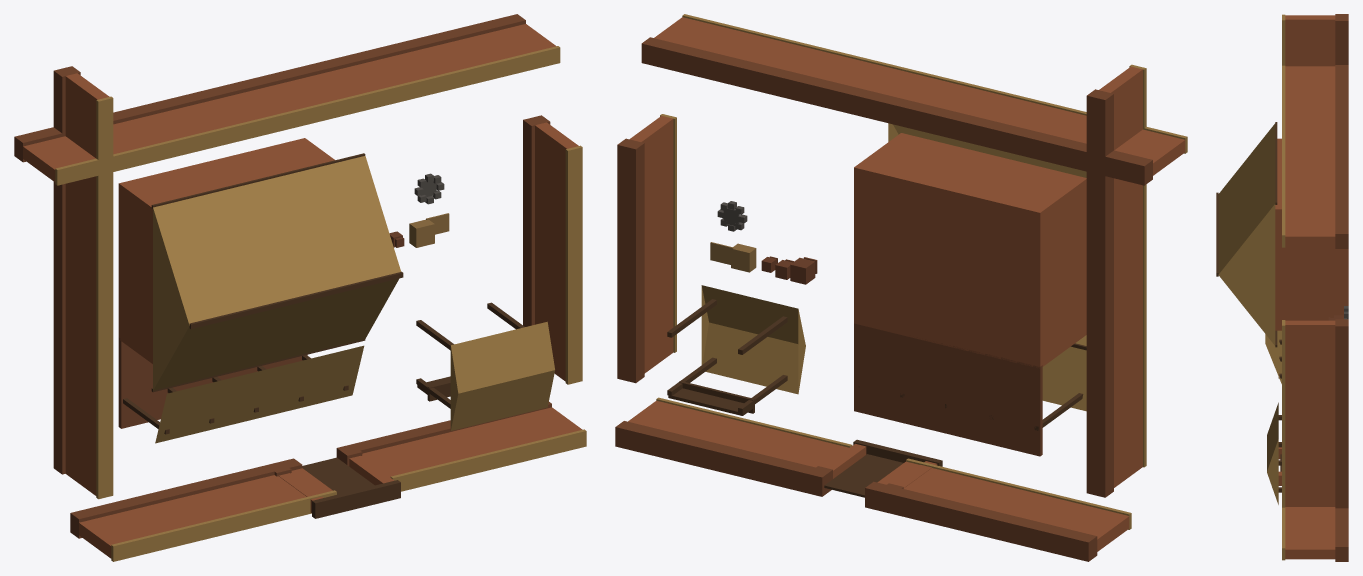
The model's file is CH01_COMPOUND_ASSEMBLED_V2.obj.
The picture shows the model from 3 angles, left to right: view 1: azimuth 30°, elevation 25°; view 2: azimuth 150°, elevation 25°; view 3: azimuth 270°, elevation 25°; orthographic projection. The views are drawn at different scales.
Size of the model in its own units: 14.2 by 11.95 by 3.96.
